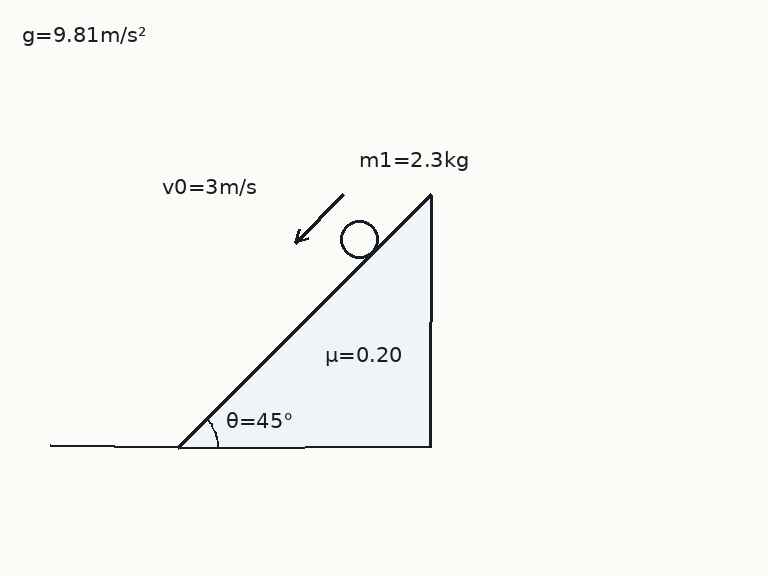ball: (338, 218, 380, 260)
ramp: (176, 193, 432, 449)
